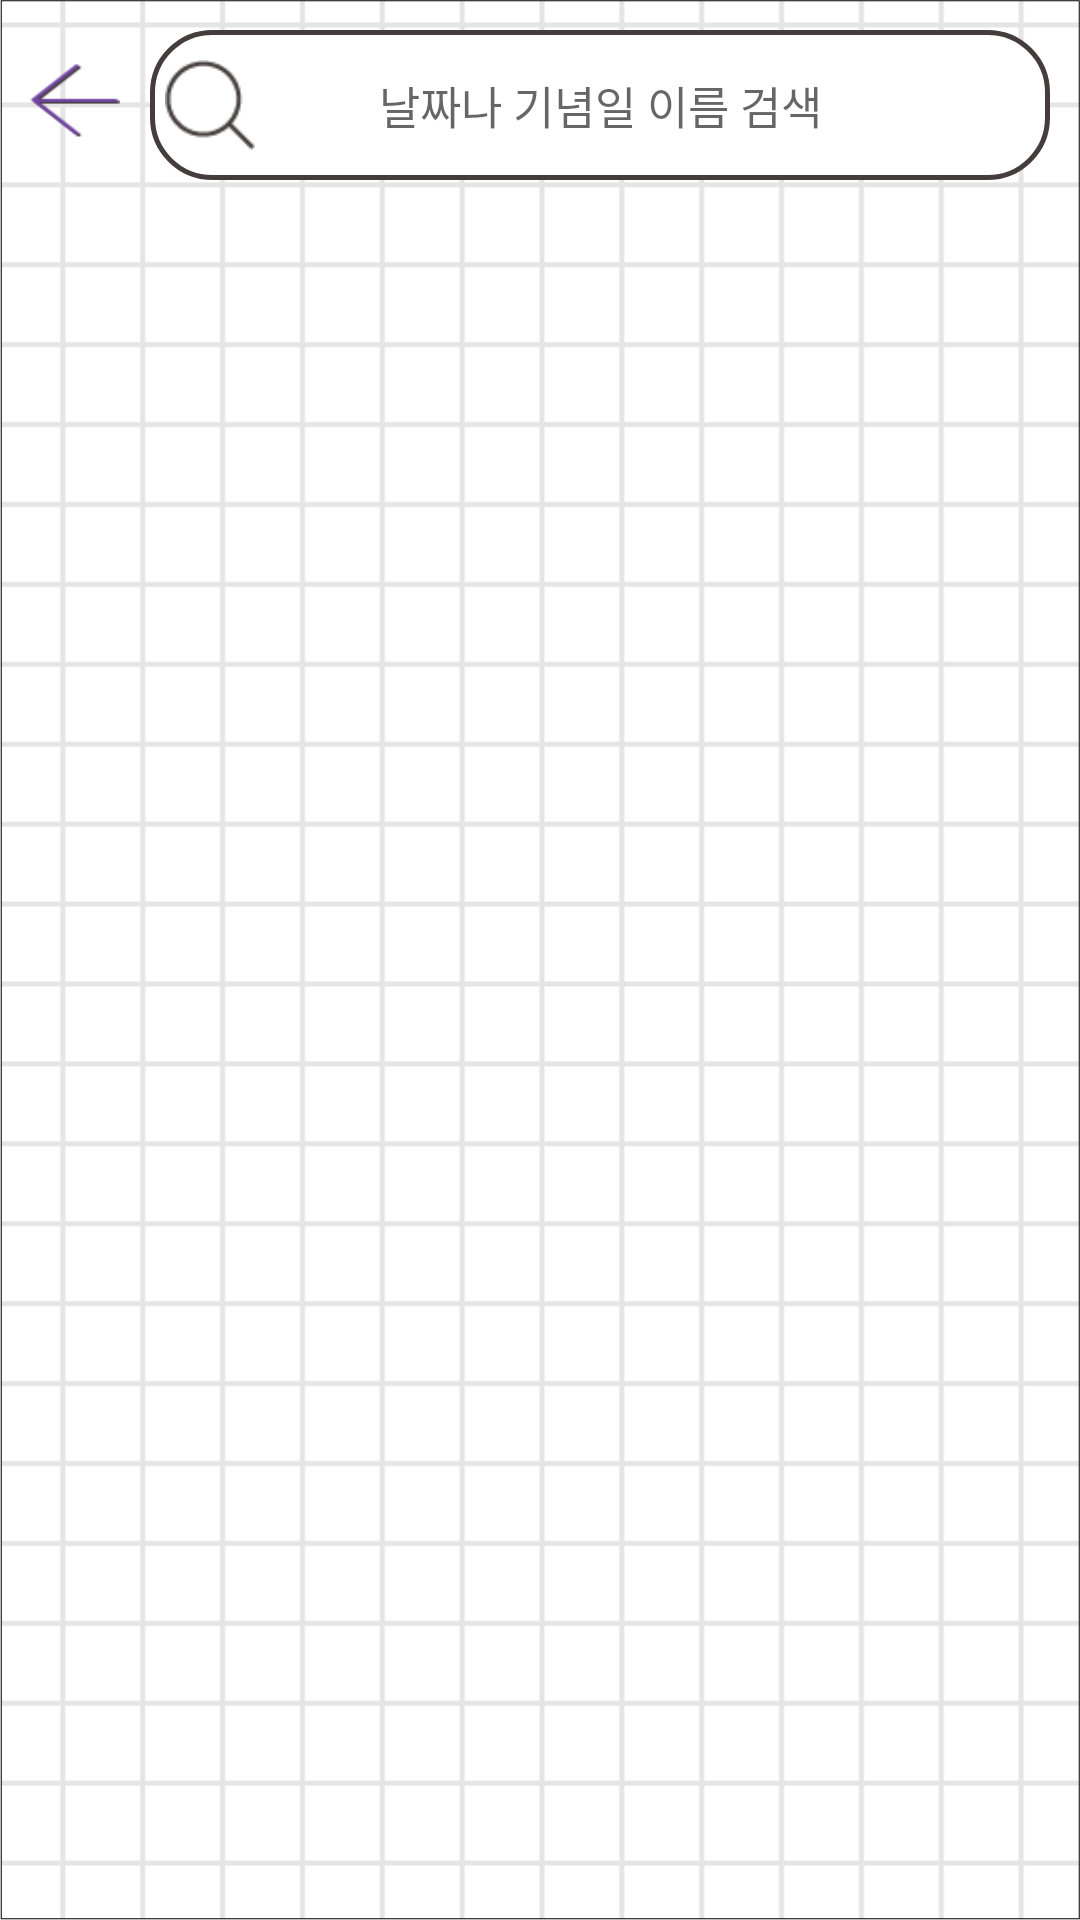

Icon click points for this 1080×1920 phone screenshot, format (x,y):
search: (210,105)
